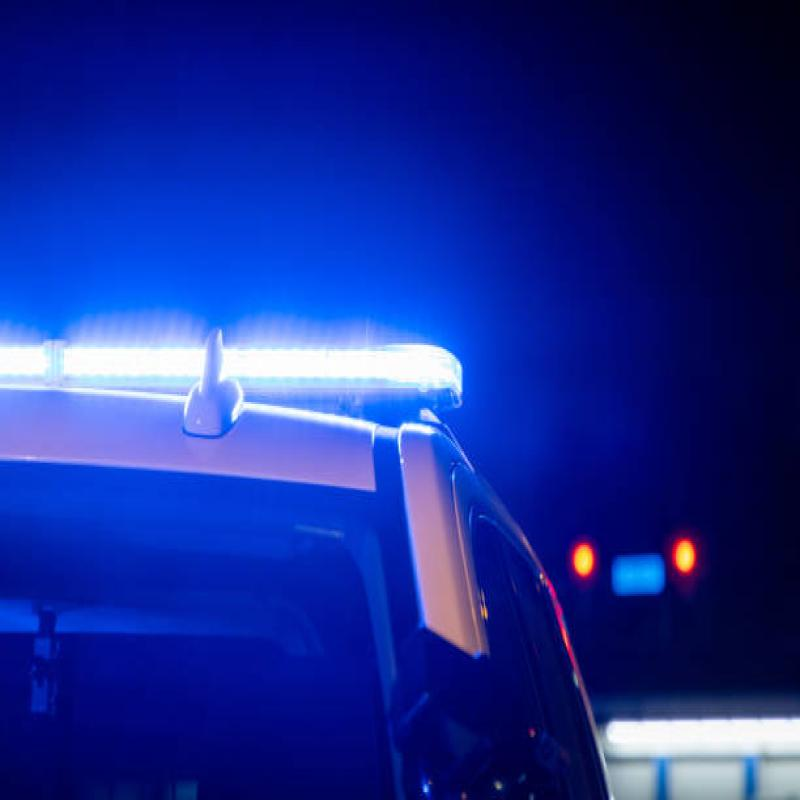AmbulanceSiren: (24, 279, 502, 420)
